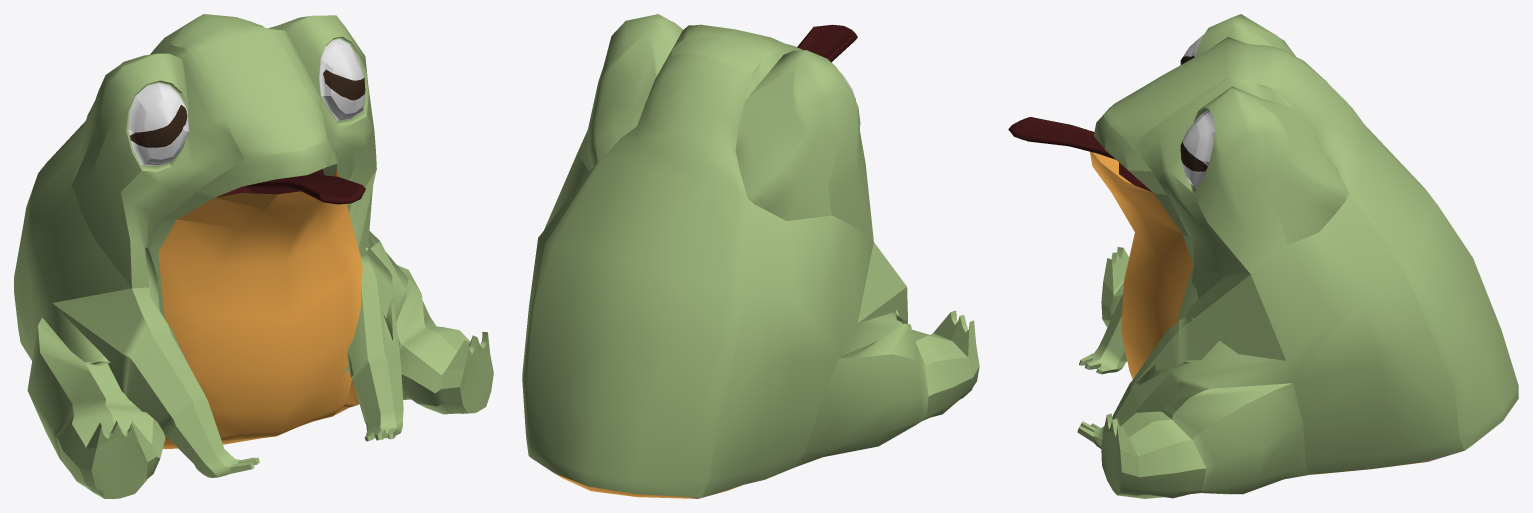
Rendered from frogver1.fbx.
3 renders of one model, left to right at view 1: azimuth 30°, elevation 25°; view 2: azimuth 150°, elevation 25°; view 3: azimuth 270°, elevation 25°, orthographic. The views are drawn at different scales.
Visible parts, largest first — view 1: frog, mouth_; view 2: frog, mouth_; view 3: frog, mouth_.
Boxes of the visible parts, x1,y1,x2,y2 form: frog: (14, 14, 493, 498); mouth_: (216, 169, 365, 204); frog: (522, 14, 979, 498); mouth_: (797, 24, 857, 62); frog: (1077, 14, 1518, 498); mouth_: (1008, 117, 1152, 192).
Bounding box in the file's own units: 1.74 × 1.64 × 2.
